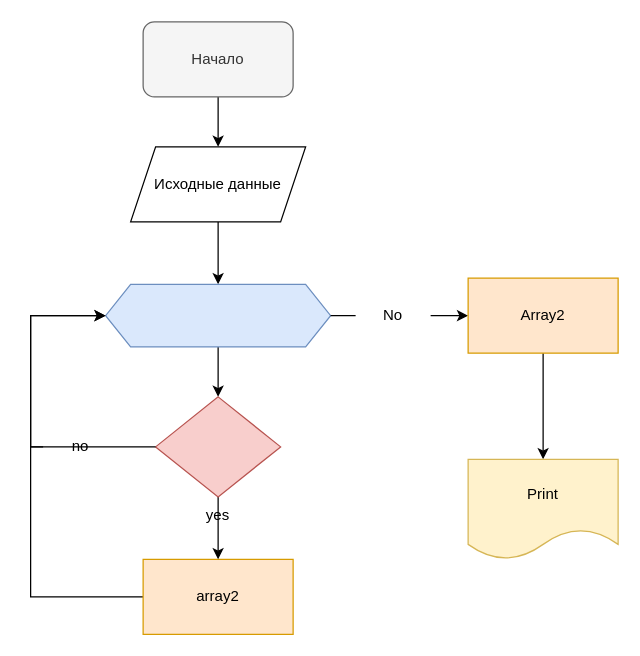
The diagram is 640 pixels wide and 656 high, and some of its shapes have lost their labels. The shapes that lost their labels are listed below. From the top down, each one's centre as x and y in pixels, then its label:
At pixel 217 315: "i=0; i < Ar.Lenght; i++".
At pixel 217 446: "Array[i] <=3".
